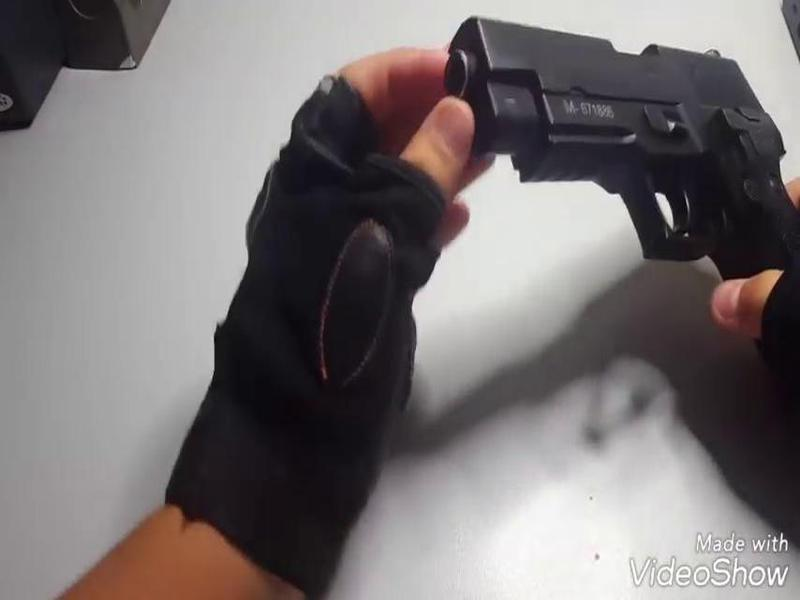Pistola: (447, 5, 800, 310)
